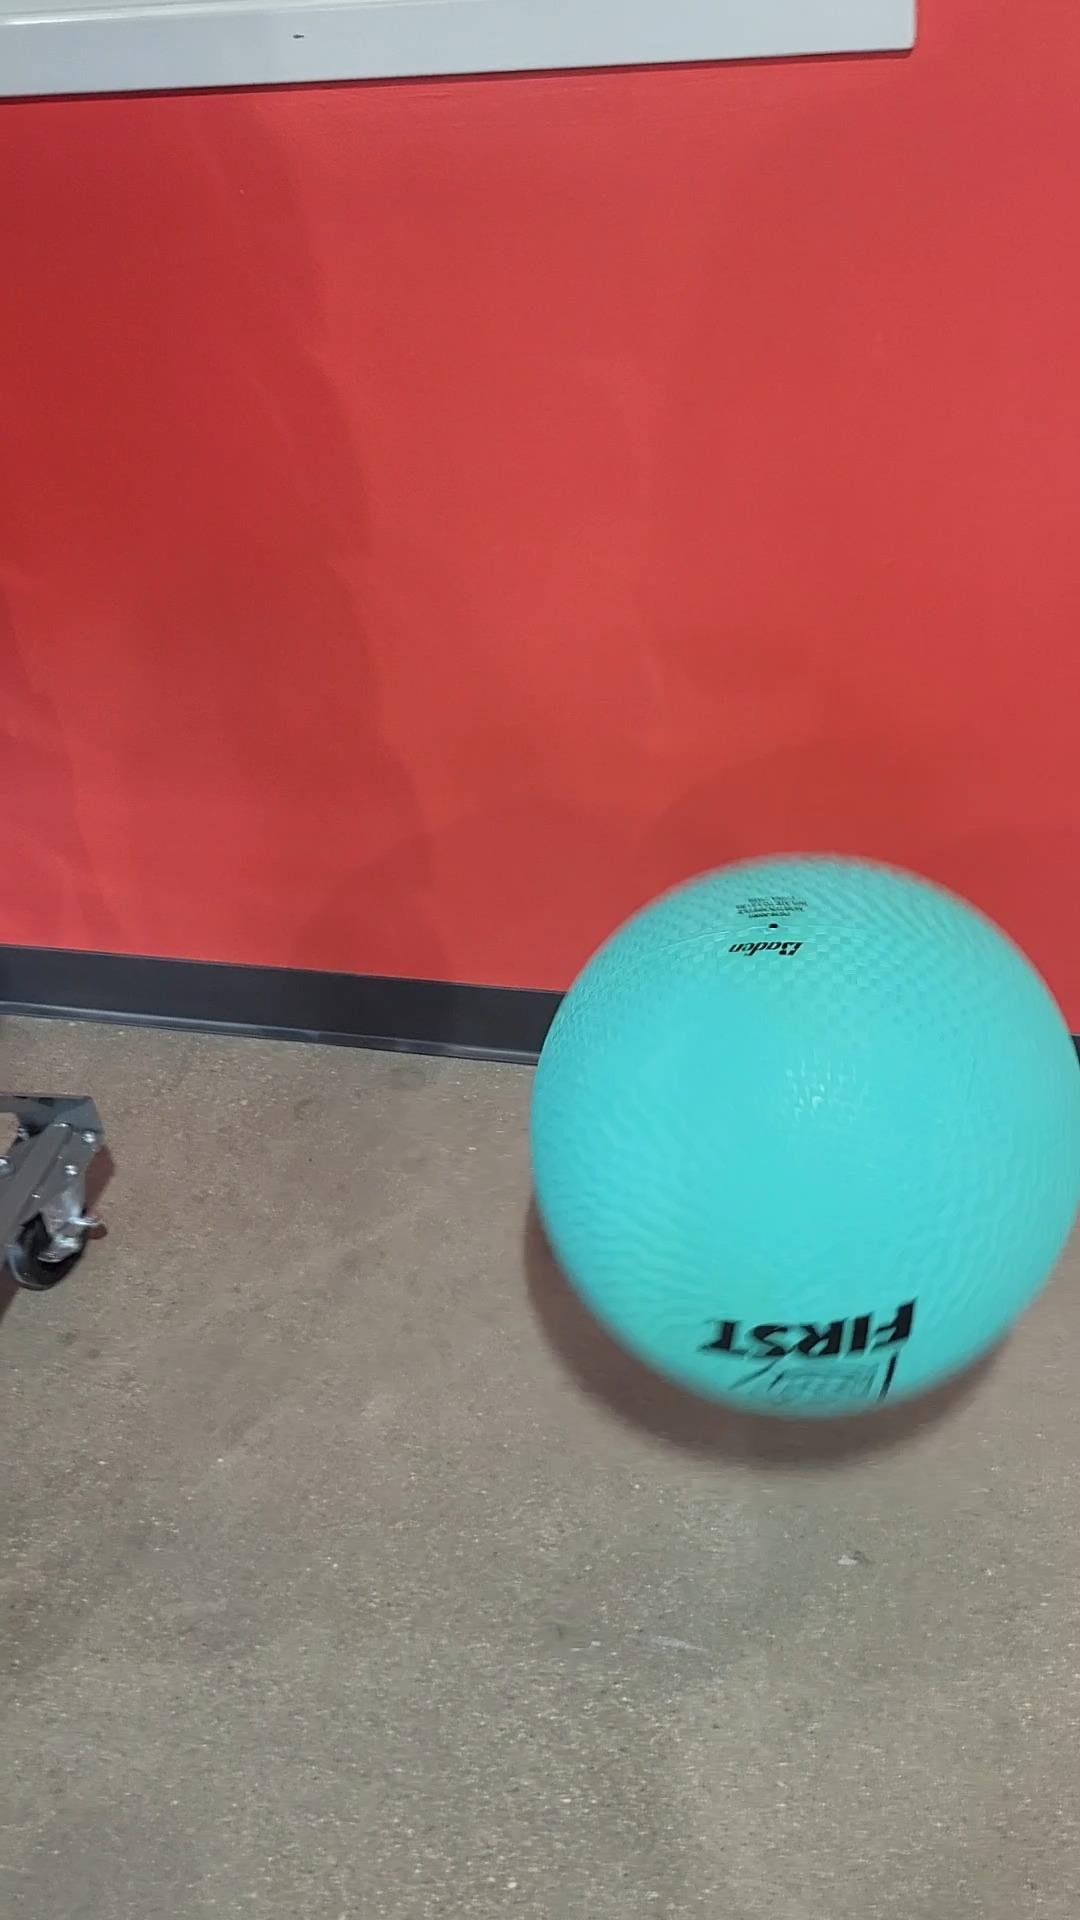algae: (551, 856, 1080, 1416)
